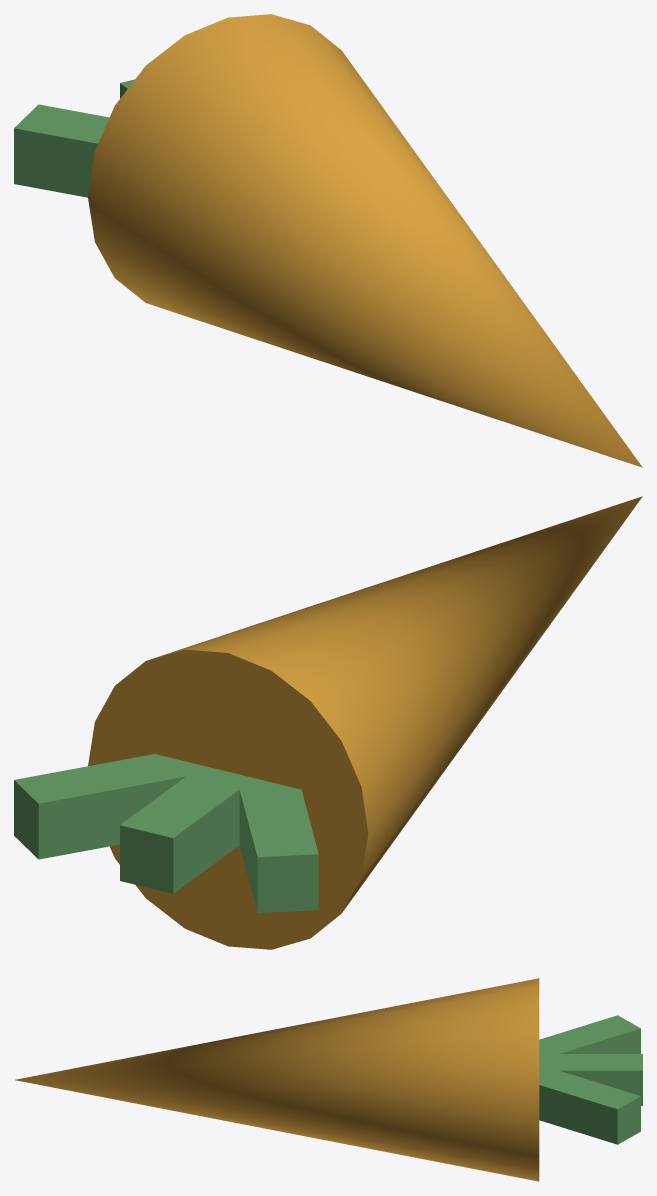
File: Carrot.fbx
The picture shows the model from 3 angles, top to bottom: view 1: azimuth 30°, elevation 25°; view 2: azimuth 150°, elevation 25°; view 3: azimuth 270°, elevation 25°; orthographic projection. The views are drawn at different scales.
Parts seen in each view (by area): view 1: pCone2; view 2: pCone2; view 3: pCone2.
Part boxes in pixels (<box>): pCone2: <box>14,14,642,467</box>; pCone2: <box>14,496,642,949</box>; pCone2: <box>15,978,642,1181</box>.
Size of the model in its own units: 0.8486 by 0.7806 by 2.39.
